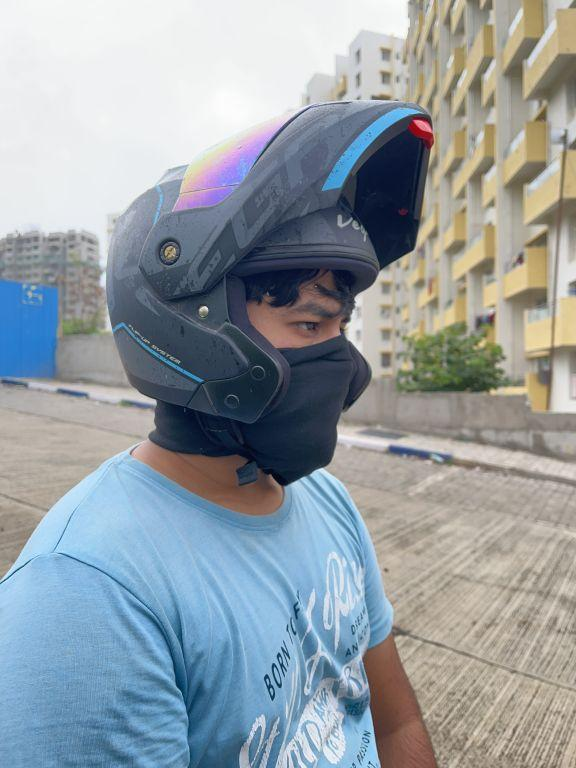helmet: (100, 94, 442, 493)
